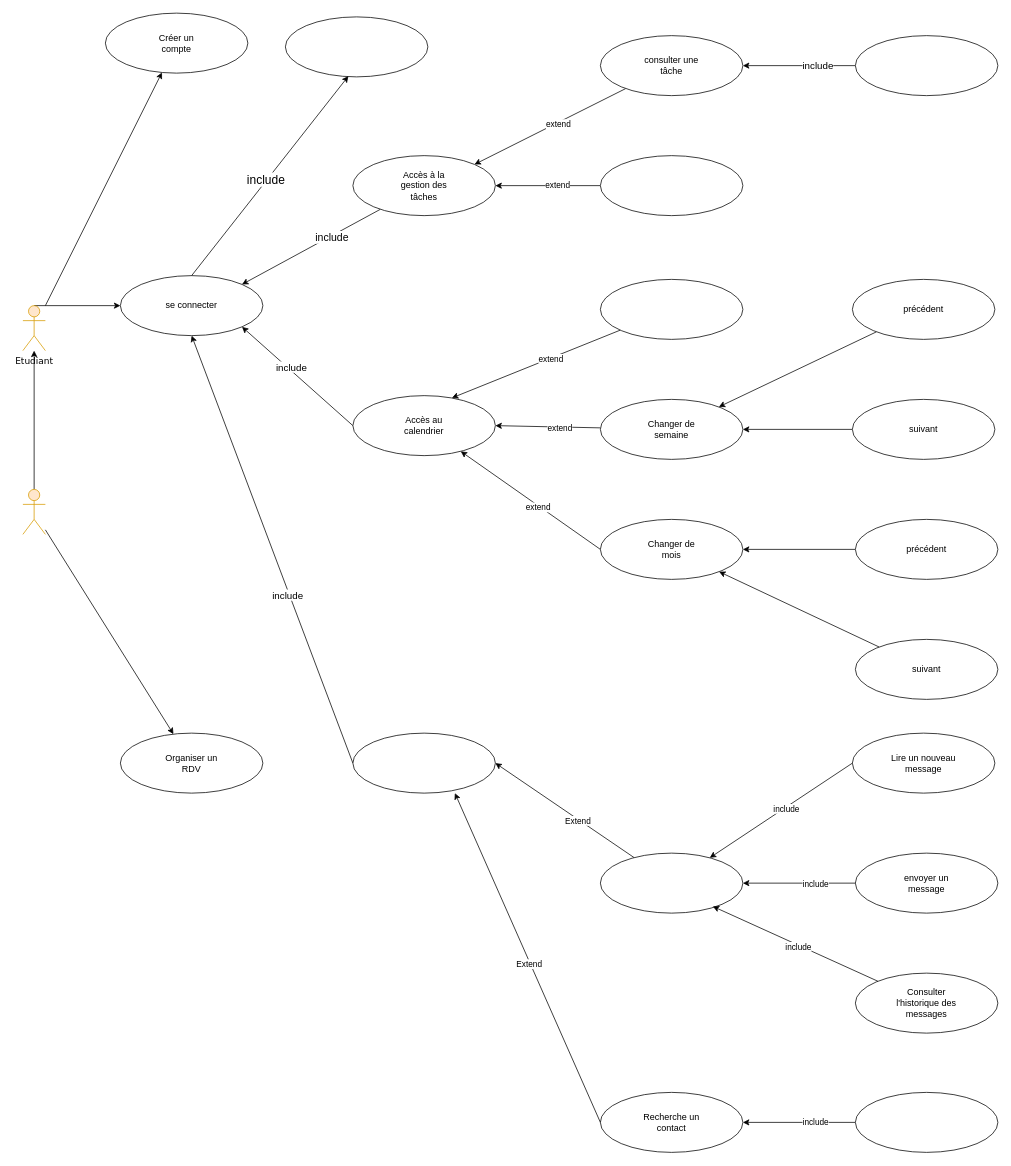
This 1011x1166 diagram has some shape labels left out. The centre of each missing label's shape, as x and y in pixels:
Accès au chat: (423,762)
Ajouter un contact: (926,1122)
Avoir un compte: (356,46)
Bénévole: (33,511)
Consulter le planning: (671,309)
créer une tâche: (671,185)
supprimer la tâche: (926,65)
Sélectionner un contact: (671,882)
